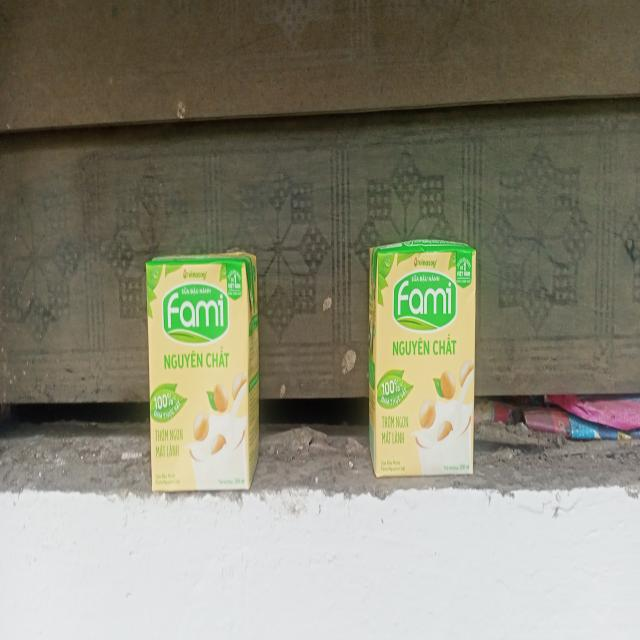Fami: (146, 254, 259, 488), (370, 240, 478, 476)
